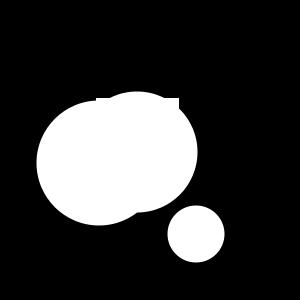circle: (96, 98, 179, 181)
rectangle: (36, 100, 162, 226), (76, 92, 198, 212), (168, 206, 224, 262)
